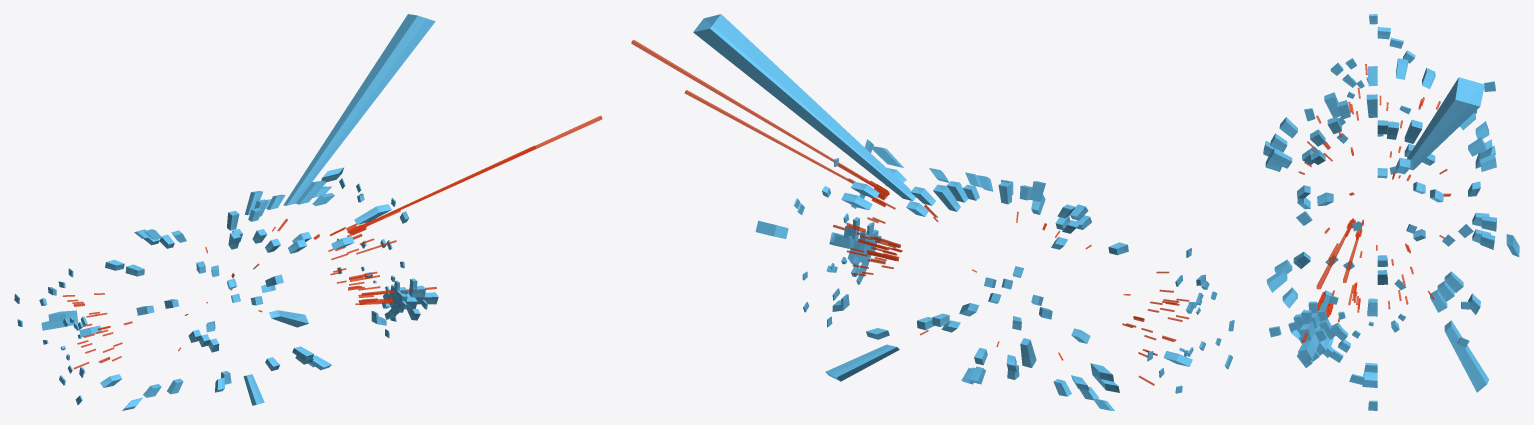
The model's file is Event_15818458_calo.fbx.
The picture shows the model from 3 angles, left to right: view 1: azimuth 30°, elevation 25°; view 2: azimuth 150°, elevation 25°; view 3: azimuth 270°, elevation 25°; orthographic projection. The views are drawn at different scales.
Parts seen in each view (by area): view 1: Model; view 2: Model; view 3: Model.
Part boxes in pixels (x1,y1,x2,y2): Model: [14, 14, 602, 410]; Model: [631, 14, 1234, 410]; Model: [1263, 14, 1519, 410].
Bounding box in the file's own units: 35.55 × 19.17 × 11.33.
